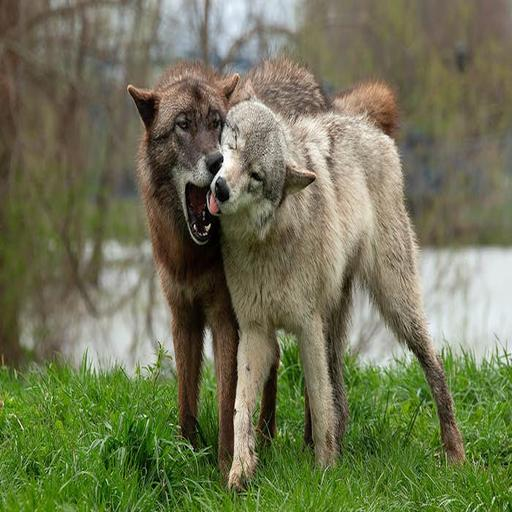Wolf: (123, 55, 470, 496)
